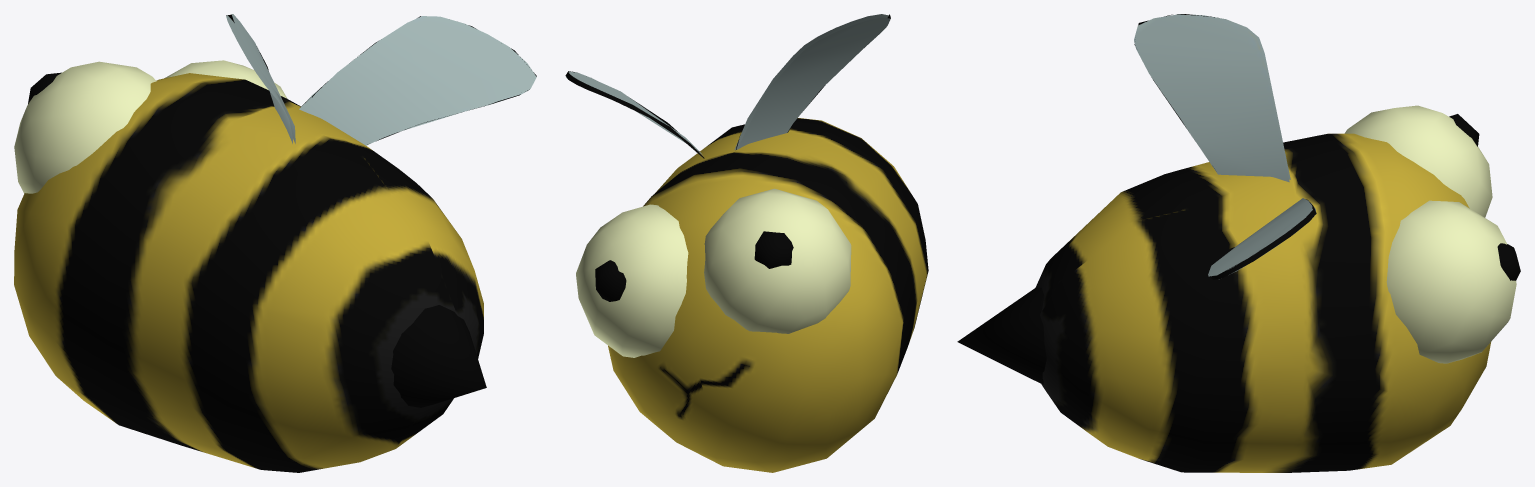
The model's file is plushdeathbee_static.fbx.
3 renders of one model, left to right at view 1: azimuth 30°, elevation 25°; view 2: azimuth 150°, elevation 25°; view 3: azimuth 270°, elevation 25°, orthographic. The views are drawn at different scales.
Parts seen in each view (by area): view 1: body.001; view 2: body.001; view 3: body.001.
Boxes of the visible parts, x1=… form: body.001: x1=14, y1=14, x2=536, y2=472; body.001: x1=565, y1=14, x2=928, y2=472; body.001: x1=957, y1=14, x2=1520, y2=472.
Size of the model in its own units: 0.2874 by 0.2899 by 0.3467.
